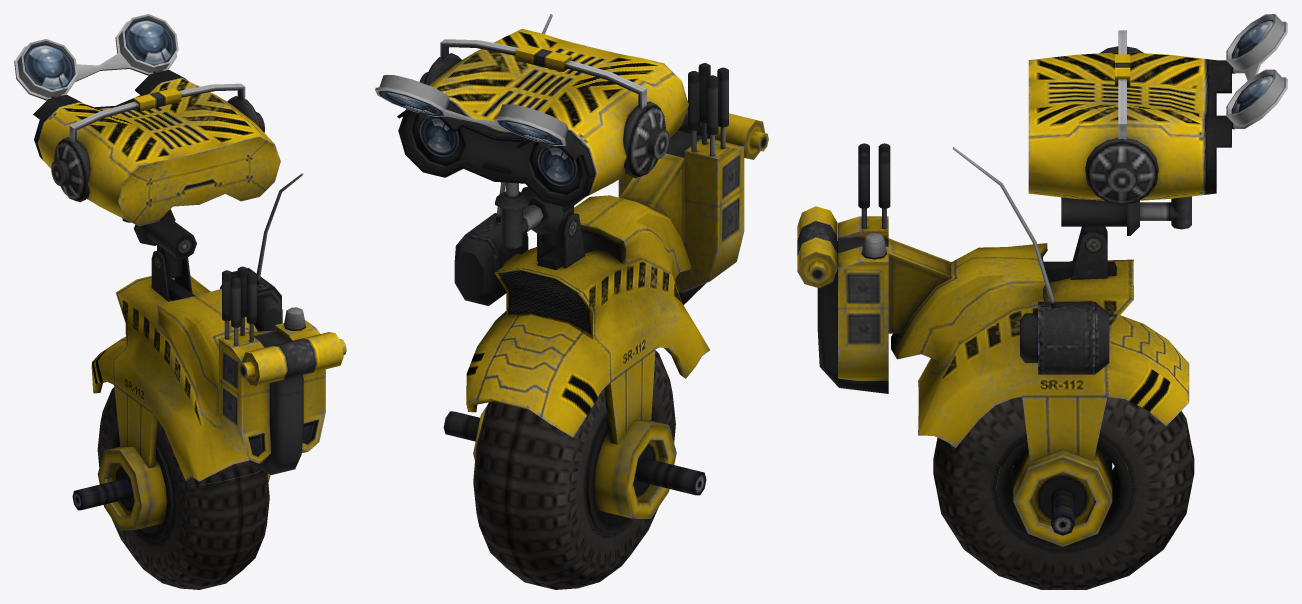
The model's file is scout_rover_yellow.dae.
The picture shows the model from 3 angles, left to right: view 1: azimuth 30°, elevation 25°; view 2: azimuth 150°, elevation 25°; view 3: azimuth 270°, elevation 25°; orthographic projection. The views are drawn at different scales.
Visible parts, largest first — view 1: scout_body, scout_head, scout_wheel, scout_glasses001, Cylinder156; view 2: scout_body, scout_head, scout_wheel, scout_glasses001, Cylinder156, Cylinder157; view 3: scout_body, scout_head, scout_wheel, scout_glasses001, Cylinder156.
Boxes of the visible parts, x1,y1,x2,y2 form: scout_body: (72, 173, 346, 530); scout_head: (33, 69, 280, 226); scout_wheel: (97, 387, 269, 589); scout_glasses001: (14, 14, 178, 100); Cylinder156: (134, 209, 196, 279); scout_body: (443, 14, 768, 518); scout_head: (397, 28, 688, 206); scout_wheel: (473, 350, 675, 589); scout_glasses001: (375, 75, 568, 146); Cylinder156: (521, 186, 583, 247); Cylinder157: (495, 182, 529, 248); scout_body: (797, 143, 1189, 546); scout_head: (1028, 30, 1234, 204); scout_wheel: (933, 397, 1194, 589); scout_glasses001: (1226, 14, 1287, 128); Cylinder156: (1061, 197, 1179, 235).
Size of the model in its own units: 0.3753 by 0.6716 by 0.8107.
1 material, 1 textured.
